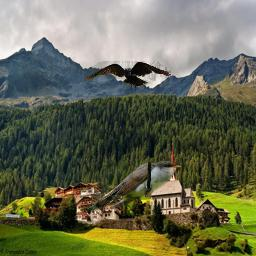Crow: (85, 61, 171, 91)
Cuckoo: (80, 159, 181, 212)
